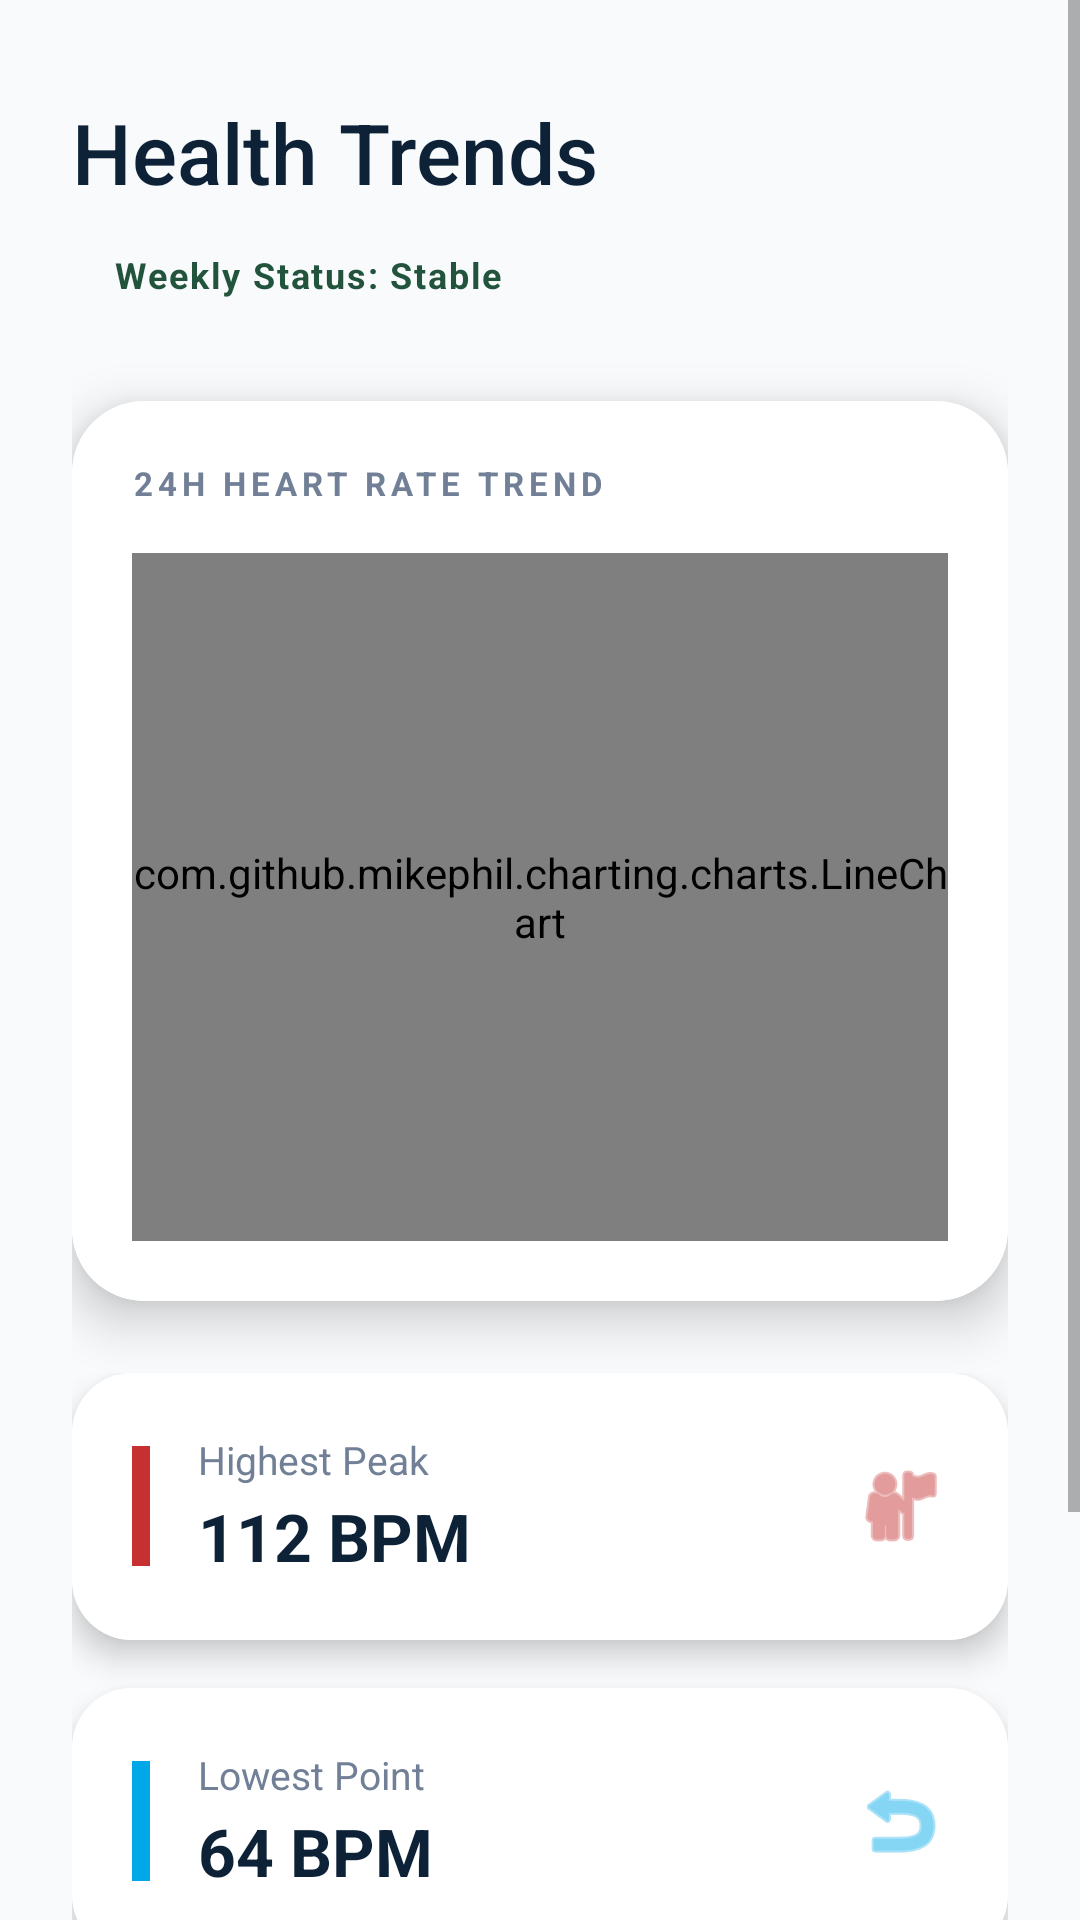

Icon click points for this 1080x1920 phone screenshot, format [x,y]:
myplaces: [901,1506]
revert: [901,1821]
